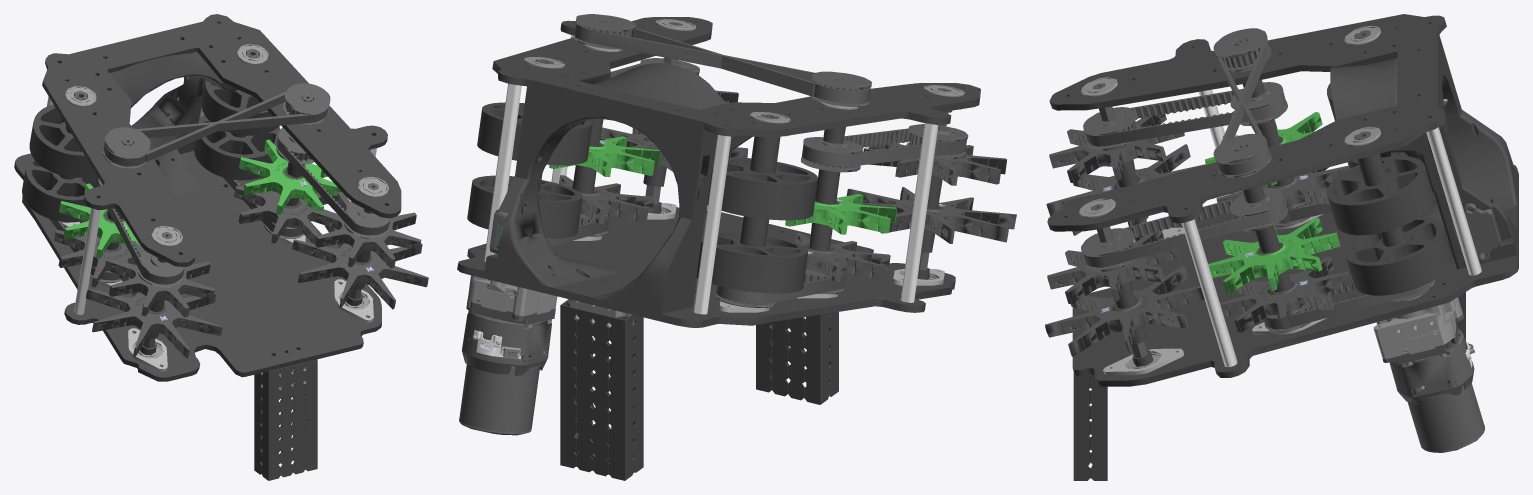
Rendered from frc-reefscape.glb.
The picture shows the model from 3 angles, left to right: view 1: azimuth 30°, elevation 25°; view 2: azimuth 150°, elevation 25°; view 3: azimuth 270°, elevation 25°; orthographic projection. The views are drawn at different scales.
Visible parts, largest first — view 1: =>[0:1:1:7]; view 2: =>[0:1:1:7]; view 3: =>[0:1:1:7].
Part boxes in pixels (<box>): =>[0:1:1:7]: <box>14,14,428,480</box>; =>[0:1:1:7]: <box>457,14,1016,480</box>; =>[0:1:1:7]: <box>1045,14,1518,480</box>.
Size of the model in its own units: 0.3395 by 0.3255 by 0.3528.
1 material, 1 textured.
